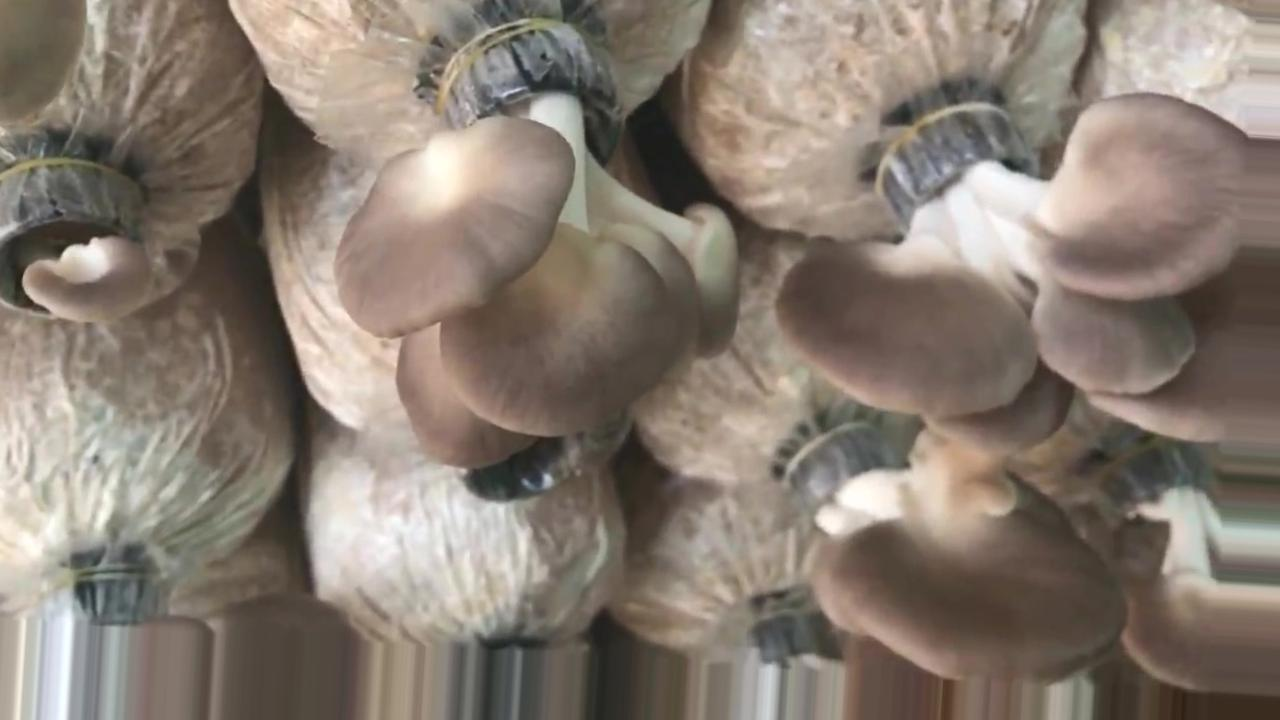nam: (774, 92, 1278, 449), (338, 21, 738, 464), (778, 424, 1130, 682), (1105, 449, 1280, 693), (1, 152, 149, 320)
